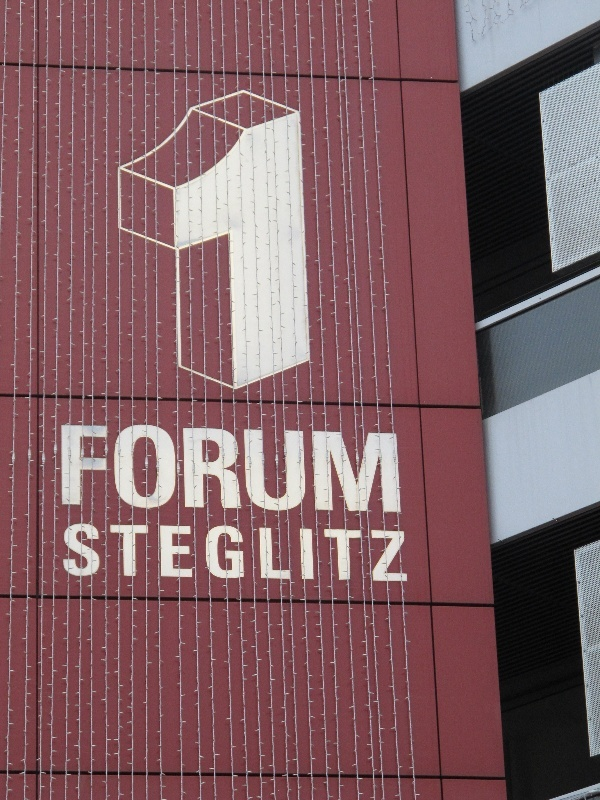text: (129, 82, 144, 399), (145, 82, 160, 399), (161, 82, 176, 399), (177, 82, 192, 399), (193, 82, 208, 399), (209, 82, 224, 399), (225, 82, 240, 399), (241, 82, 256, 399), (257, 82, 272, 399), (273, 82, 288, 399), (289, 82, 304, 399), (118, 82, 128, 399), (305, 82, 312, 399), (65, 425, 80, 516), (81, 425, 96, 516), (97, 425, 112, 516), (113, 425, 128, 516), (129, 425, 144, 516), (145, 425, 160, 516), (161, 425, 176, 516), (177, 425, 192, 516), (193, 425, 208, 516), (209, 425, 224, 516), (225, 425, 240, 516), (241, 425, 256, 516), (257, 425, 272, 516), (273, 425, 288, 516), (289, 425, 304, 516), (305, 425, 320, 516), (321, 425, 336, 516), (337, 425, 352, 516), (353, 425, 368, 516), (369, 425, 384, 516), (385, 425, 400, 516), (65, 522, 80, 586), (81, 522, 96, 586), (97, 522, 112, 586), (113, 522, 128, 586), (129, 522, 144, 586), (145, 522, 160, 586), (161, 522, 176, 586), (177, 522, 192, 586), (193, 522, 208, 586), (209, 522, 224, 586), (225, 522, 240, 586), (241, 522, 256, 586), (257, 522, 272, 586), (273, 522, 288, 586), (289, 522, 304, 586), (305, 522, 320, 586), (321, 522, 336, 586), (337, 522, 352, 586), (353, 522, 368, 586), (369, 522, 384, 586), (385, 522, 400, 586), (401, 522, 410, 586), (61, 425, 64, 516), (401, 425, 403, 516)
